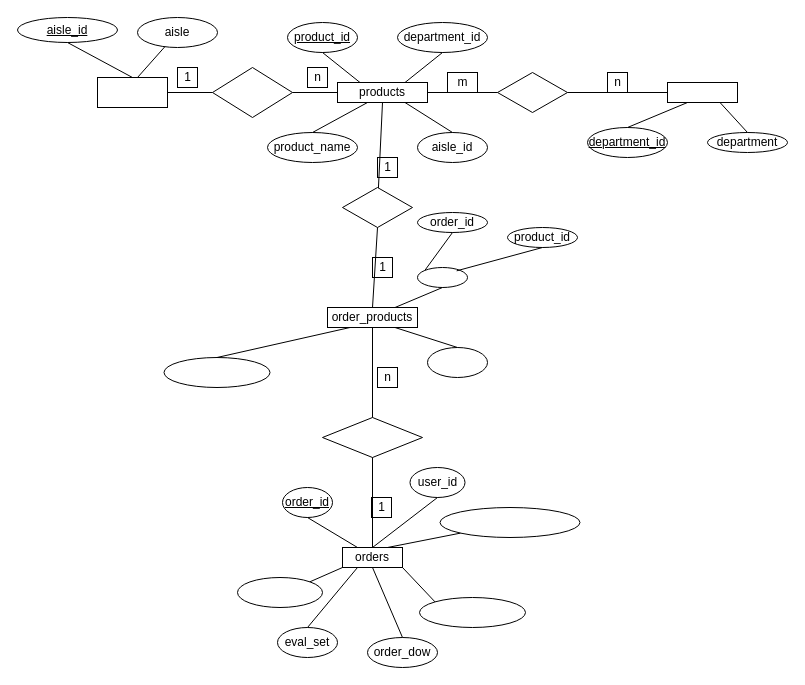
This 805x685 diagram has some shape labels left out. Here are the shapes that lost their labels. From the top down, the centre of each, then its label:
At (x=132, y=92): "aisles".
At (x=252, y=92): "classify".
At (x=532, y=92): "supply".
At (x=702, y=92): "departments".
At (x=377, y=207): "sell".
At (x=442, y=277): "key".
At (x=216, y=372): "add_to_cart_order".
At (x=457, y=362): "reordered".
At (x=372, y=437): "order".
At (x=509, y=522): "day_since_prior_order".
At (x=279, y=592): "order_number".
At (x=472, y=612): "order_hour_of_day".
